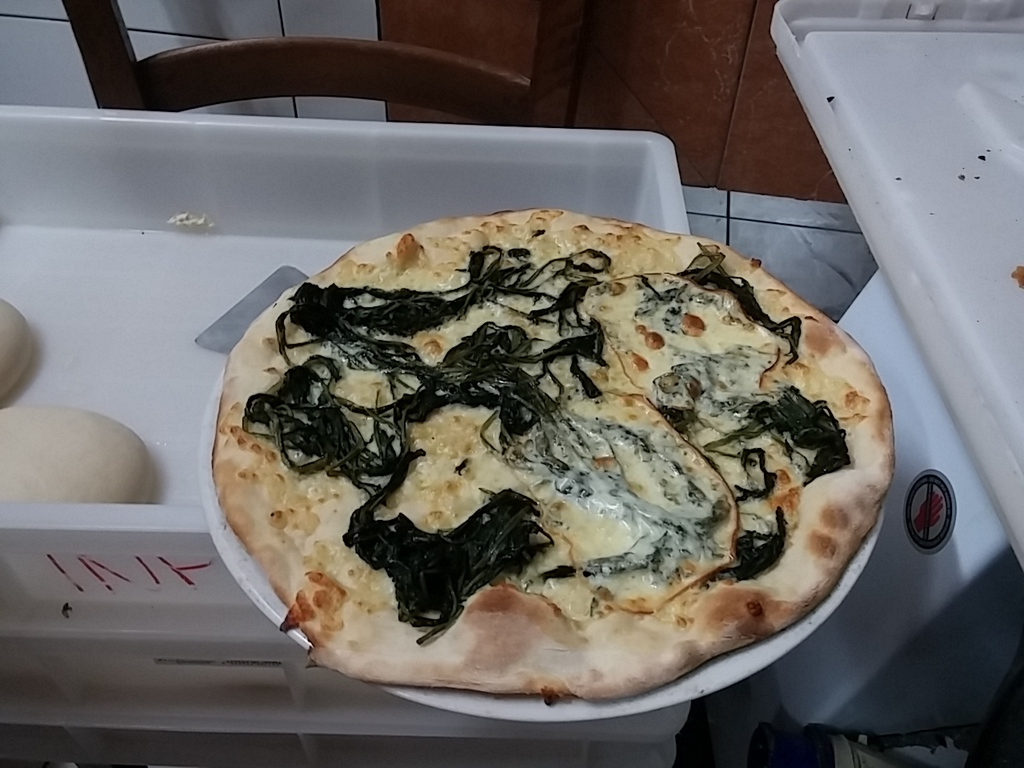Pizza: (210, 207, 896, 703)
